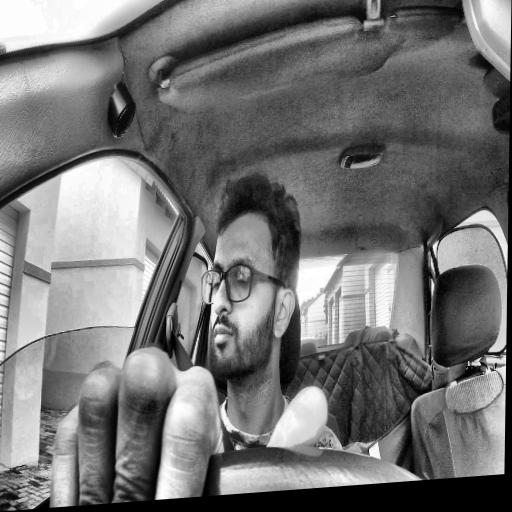drowsy: (198, 168, 302, 386)
